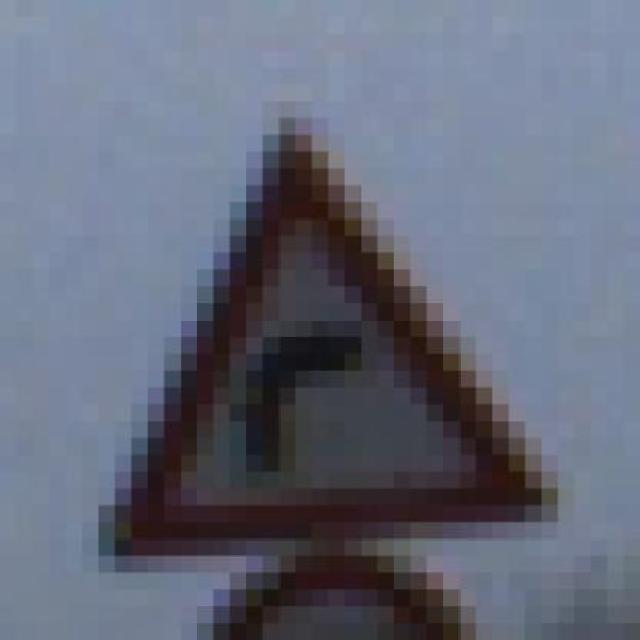Dangerous Rright Curve Ahead: (48, 135, 574, 539)
